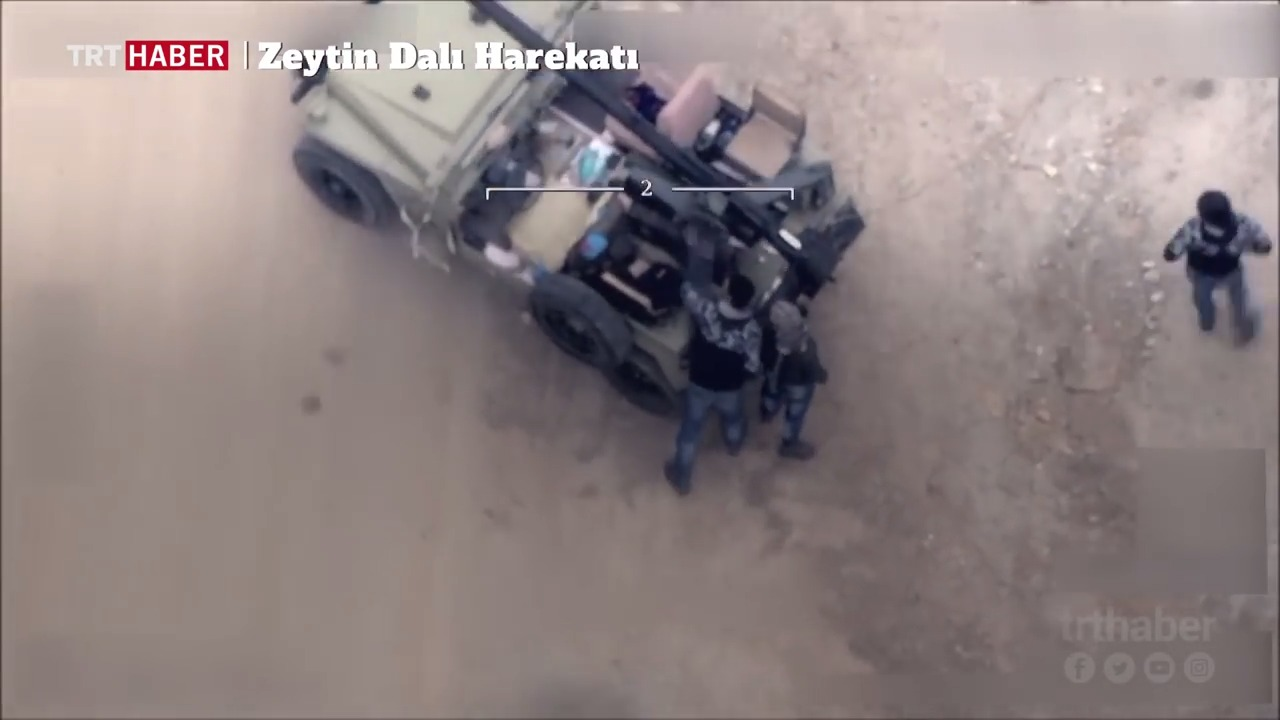arac: (282, 0, 874, 399)
insan: (666, 246, 767, 491), (1158, 167, 1272, 382), (747, 285, 833, 498)
